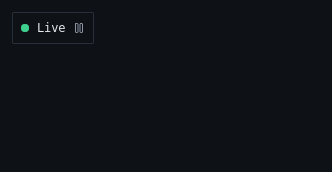
Test: PriceFeedRunner › pauses from the LIVE button
What coordinates should you click on to do the following:
click the button with aria-label "Pause live prices"
I would click on:
 (53, 28)
Its box is [12,12,94,44].
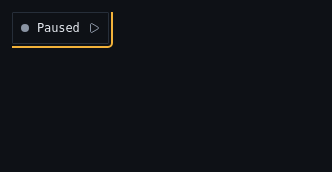
Expected: the button with aria-label "Resume live prices" is pressed, [12,12,109,44]
